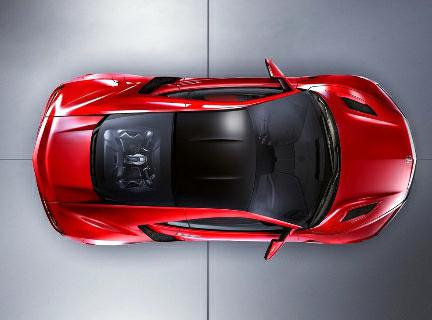讴歌-ILX: (25, 58, 419, 267)
